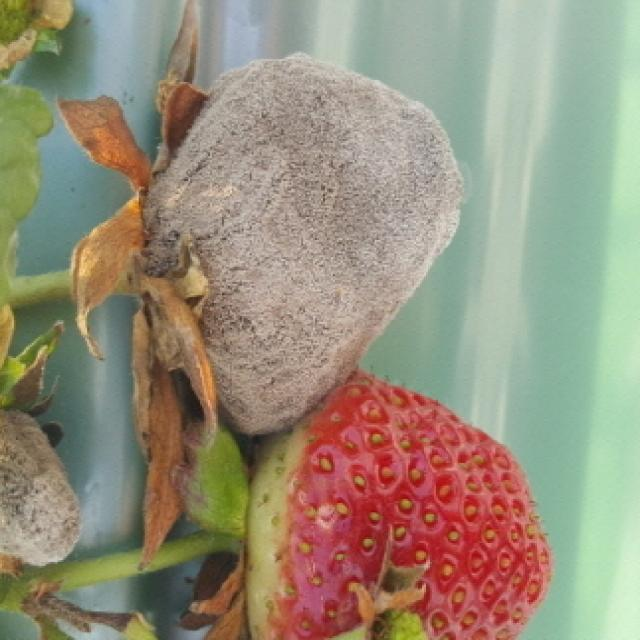Gray Mold: (56, 53, 466, 570), (0, 350, 84, 573)
